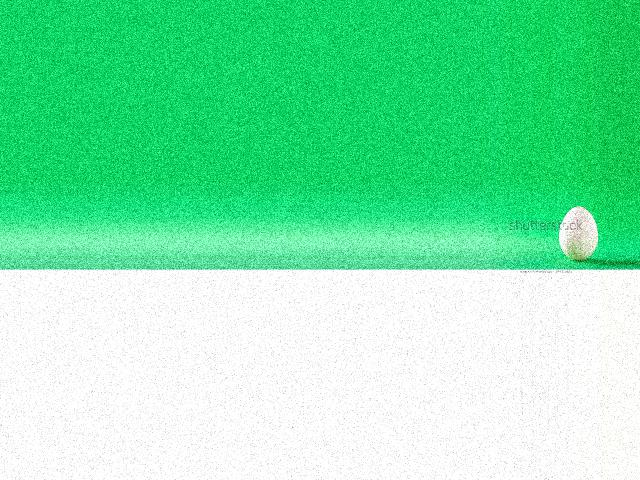egg: (559, 206, 598, 262)
